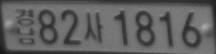1: (111, 9, 131, 46), (157, 10, 177, 47)
2: (59, 8, 81, 45)
6: (181, 11, 202, 48)
8: (134, 9, 156, 47), (37, 8, 58, 44)
경남_V: (14, 8, 36, 45)
사: (83, 11, 104, 44)
